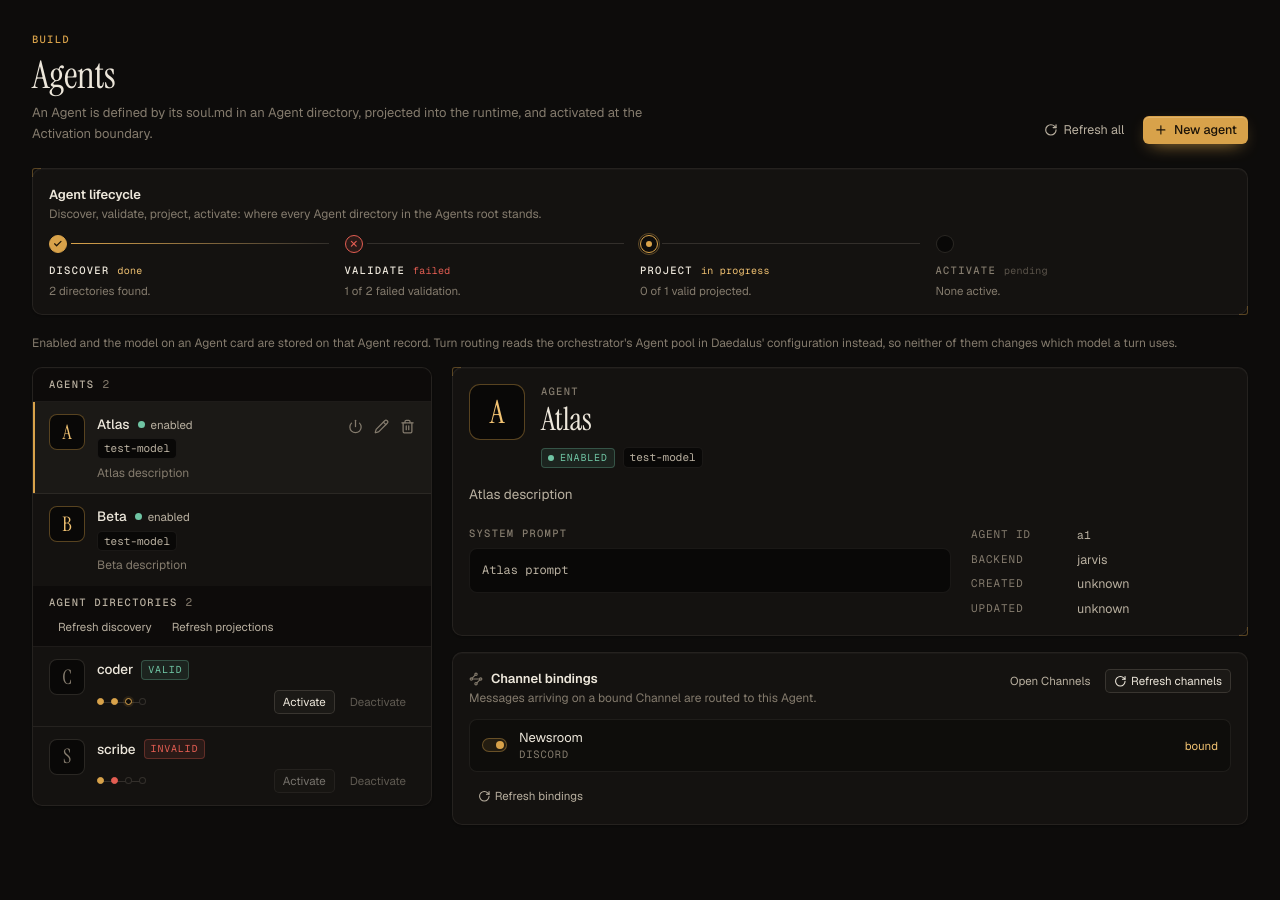
Test: Agents master-detail › opens the first Agent by default and reloads bindings for the Agent you select
Expected: the heading "Atlas" is shown, [97,414,130,434]
Expected: the element named "Atlas detail" is shown, [452,368,1248,636]
Click the button "Beta" at (112, 517), box [97,506,127,527]
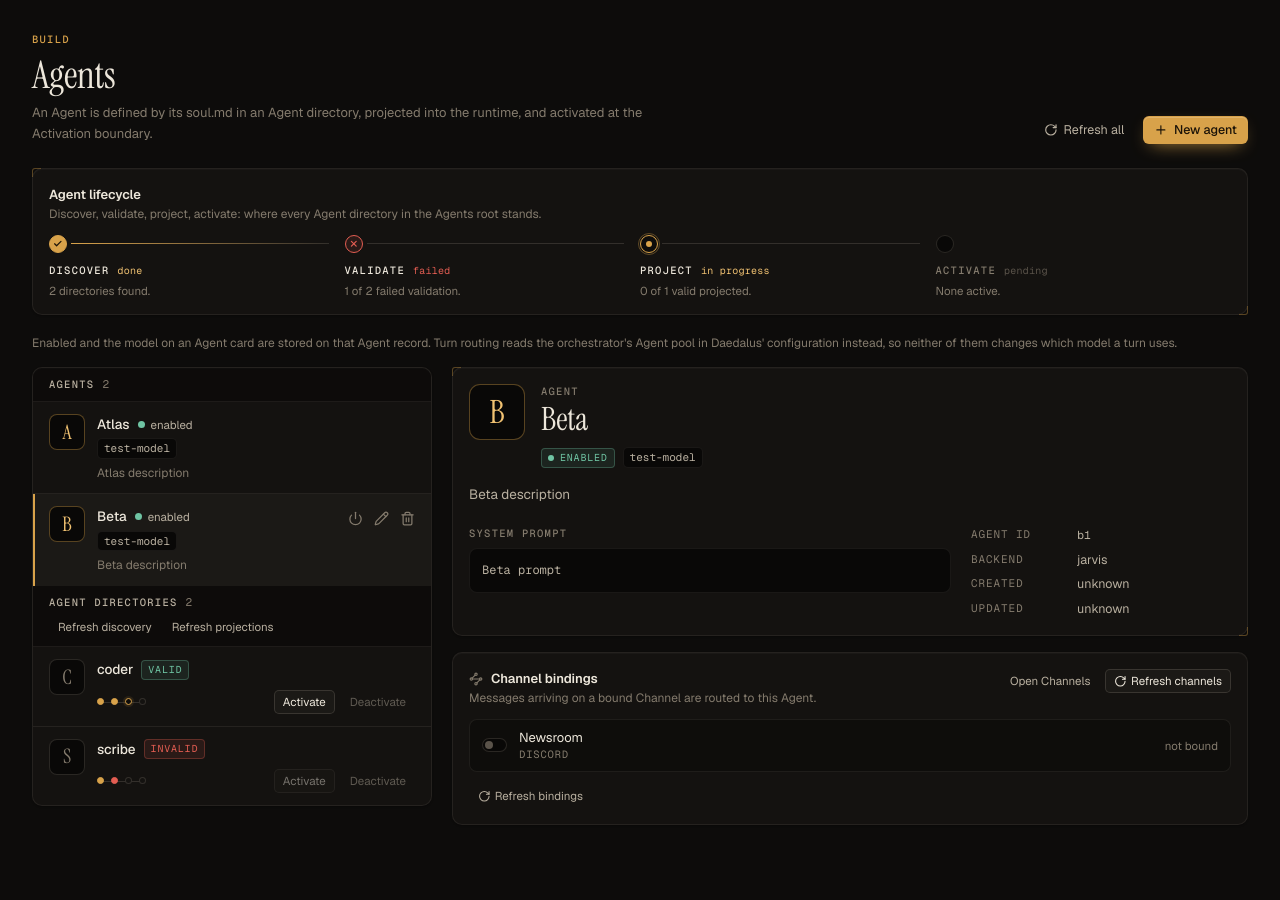
Expected: the element named "Beta detail" is shown, [452,368,1248,636]
